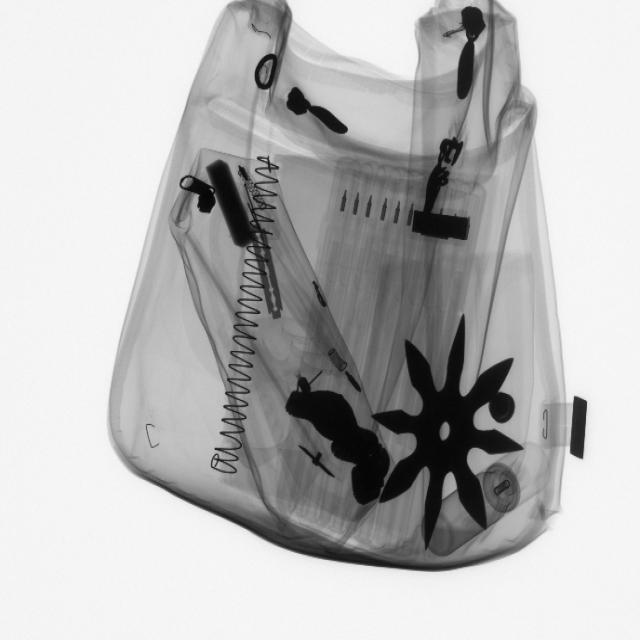BLADE: (250, 228, 288, 326)
SHURIKEN: (374, 309, 529, 551)
